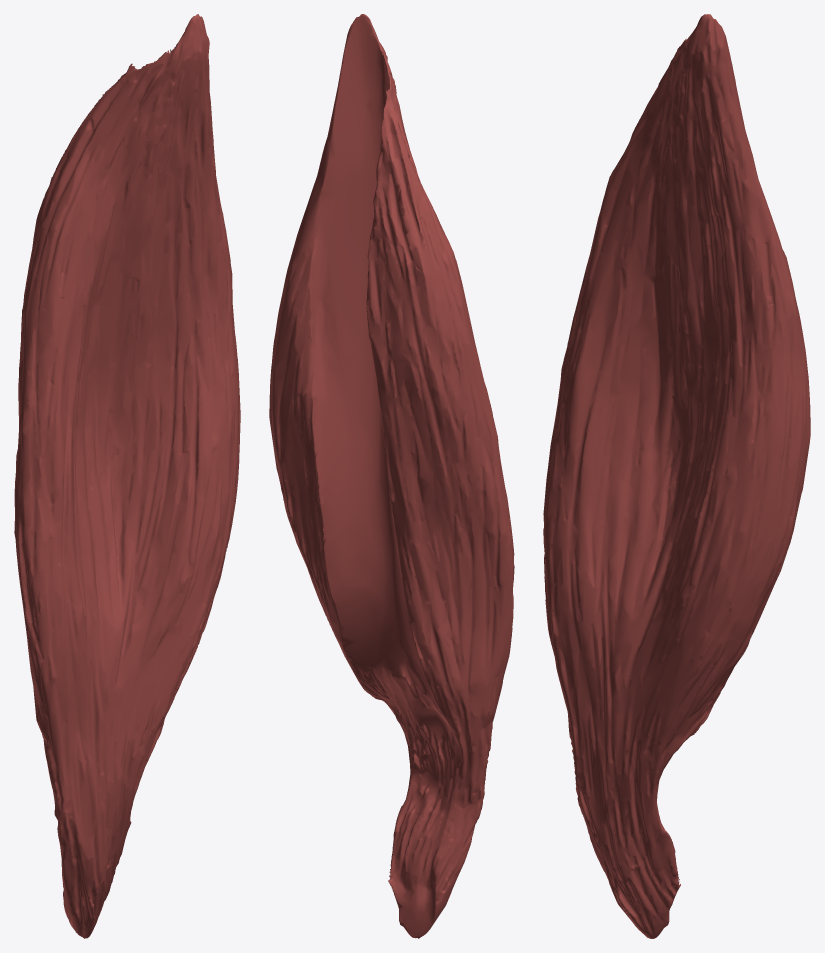
File: FMA37668.glb
The picture shows the model from 3 angles, left to right: view 1: azimuth 30°, elevation 25°; view 2: azimuth 150°, elevation 25°; view 3: azimuth 330°, elevation 25°; orthographic projection. The views are drawn at different scales.
Parts seen in each view (by area): view 1: FMA37668; view 2: FMA37668; view 3: FMA37668.
Boxes of the visible parts, x1=… form: FMA37668: x1=14, y1=14, x2=240, y2=938; FMA37668: x1=269, y1=14, x2=514, y2=938; FMA37668: x1=543, y1=14, x2=810, y2=938.
Bounding box in the file's own units: 0.0591 × 0.2249 × 0.0268.
